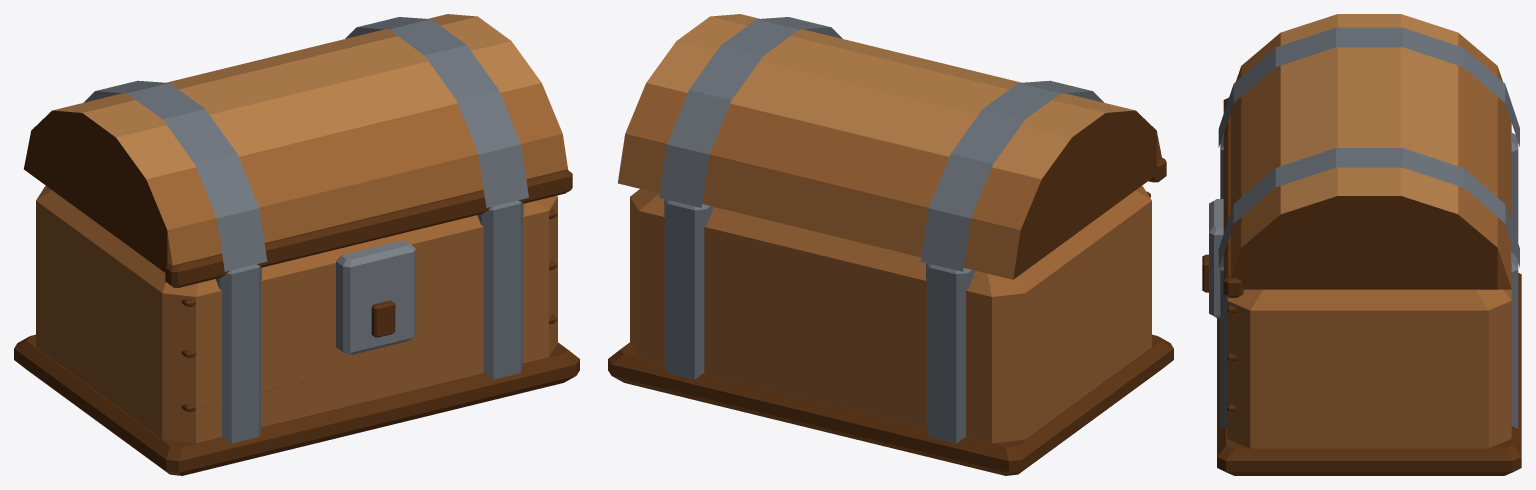
The model's file is chest_wood.glb.
3 views of the same model, side by side, from view 1: azimuth 30°, elevation 25°; view 2: azimuth 150°, elevation 25°; view 3: azimuth 270°, elevation 25° (orthographic). The views are drawn at different scales.
Parts seen in each view (by area): view 1: Capac, Corp, Lacat; view 2: Corp, Capac; view 3: Capac, Corp, Lacat.
Boxes of the visible parts, x1,y1,x2,y2 form: Capac: [24, 14, 572, 287]; Corp: [14, 186, 579, 475]; Lacat: [336, 241, 415, 354]; Corp: [608, 186, 1173, 475]; Capac: [618, 14, 1166, 279]; Capac: [1218, 14, 1519, 297]; Corp: [1217, 132, 1521, 475]; Lacat: [1202, 199, 1223, 318].
Size of the model in its own units: 1.36 by 0.9563 by 0.965.
